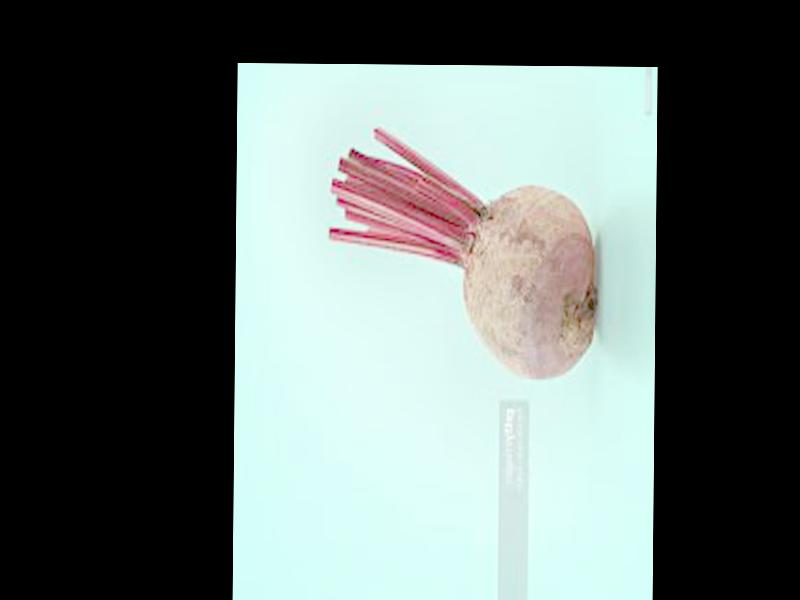Beet: (326, 128, 599, 380)
